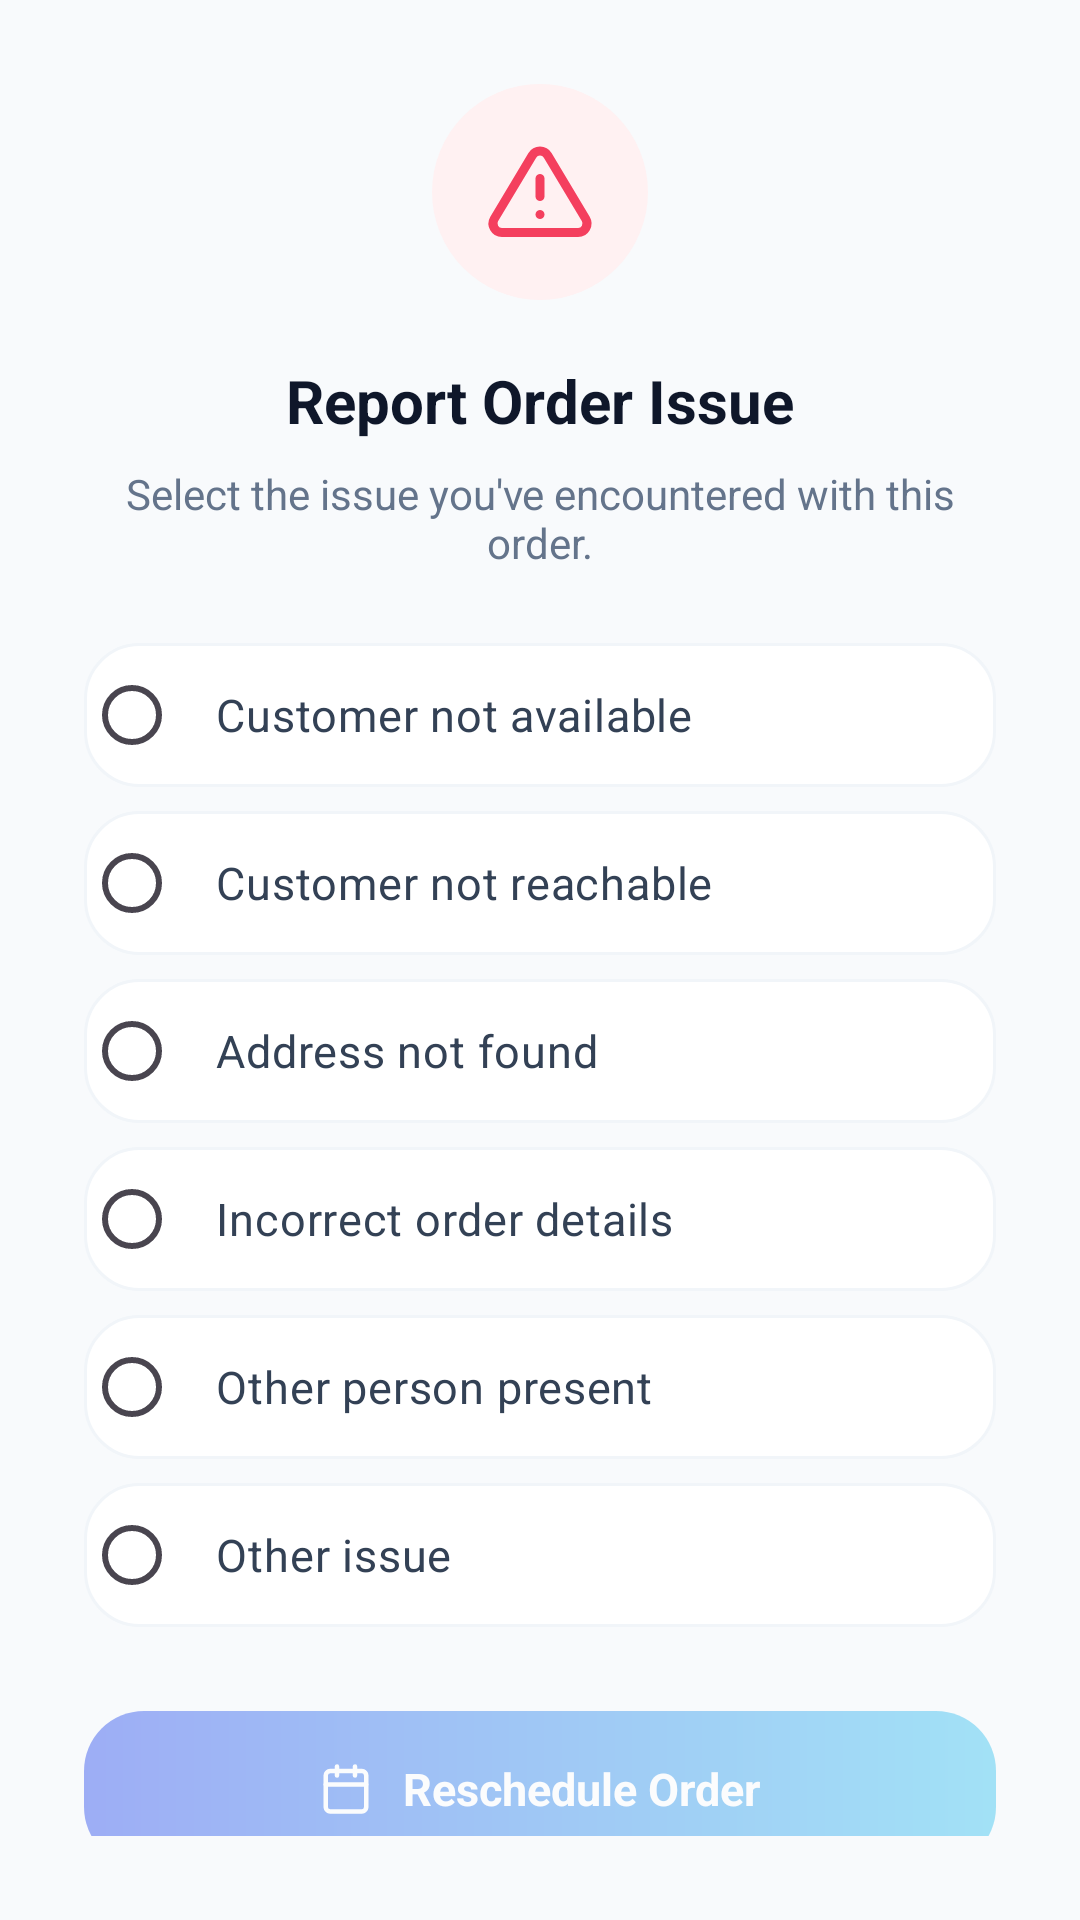

Point at icon controls on the screen. Image size 1080w x 1920h, points as point (x, y).
calendar: point (346, 1789)
warning: point (540, 191)
